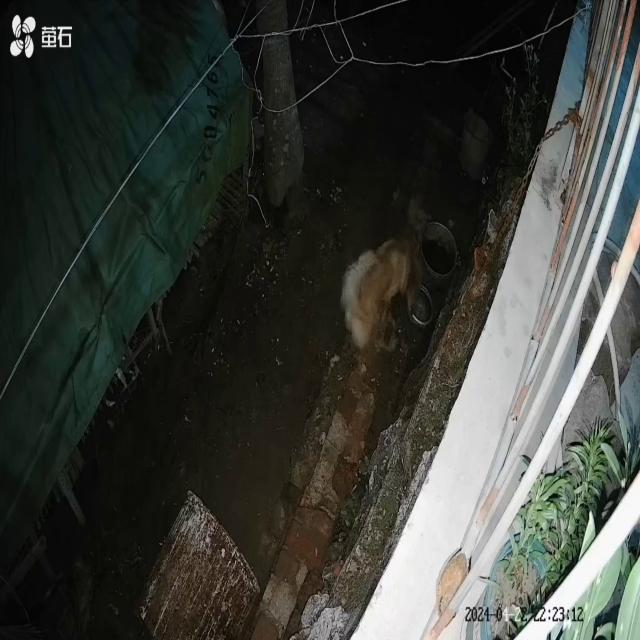dog: (341, 234, 424, 351)
